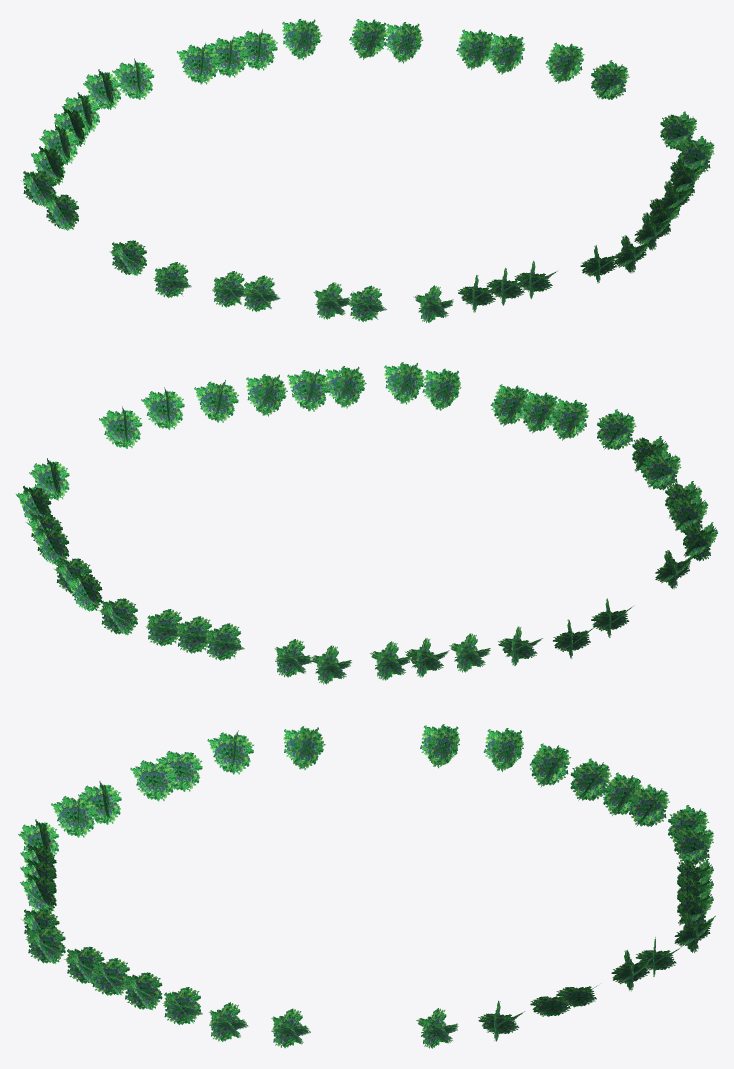
Rendered from grasses.fbx.
3 renders of one model, top to bottom at view 1: azimuth 30°, elevation 25°; view 2: azimuth 150°, elevation 25°; view 3: azimuth 270°, elevation 25°, orthographic. The views are drawn at different scales.
Visible parts, largest first — view 1: kusa; view 2: kusa; view 3: kusa.
Part boxes in pixels (x1,y1,x2,y2): kusa: (20,19,714,322); kusa: (16,362,717,684); kusa: (18,724,715,1048).
Size of the model in its own units: 3551 by 215 by 3495.
